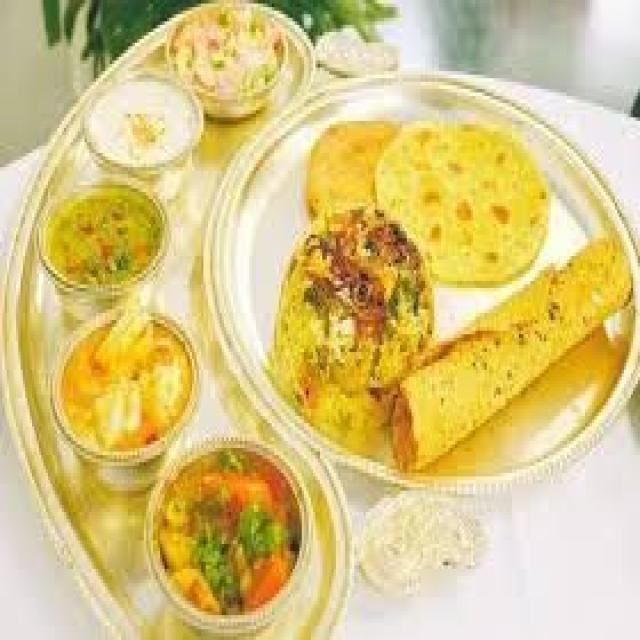dal: (373, 103, 550, 293), (156, 0, 301, 118), (33, 176, 172, 299)
sambar-rasam: (157, 0, 296, 117)
veg-fry: (270, 197, 438, 433)
